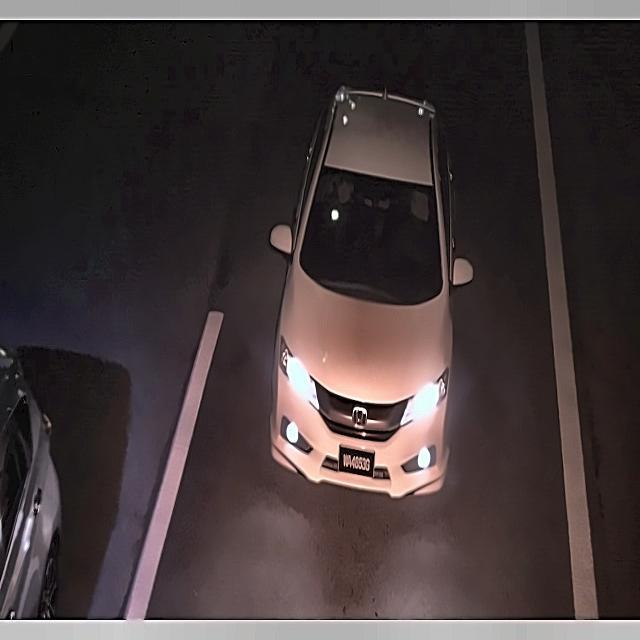car: (328, 436, 388, 485)
